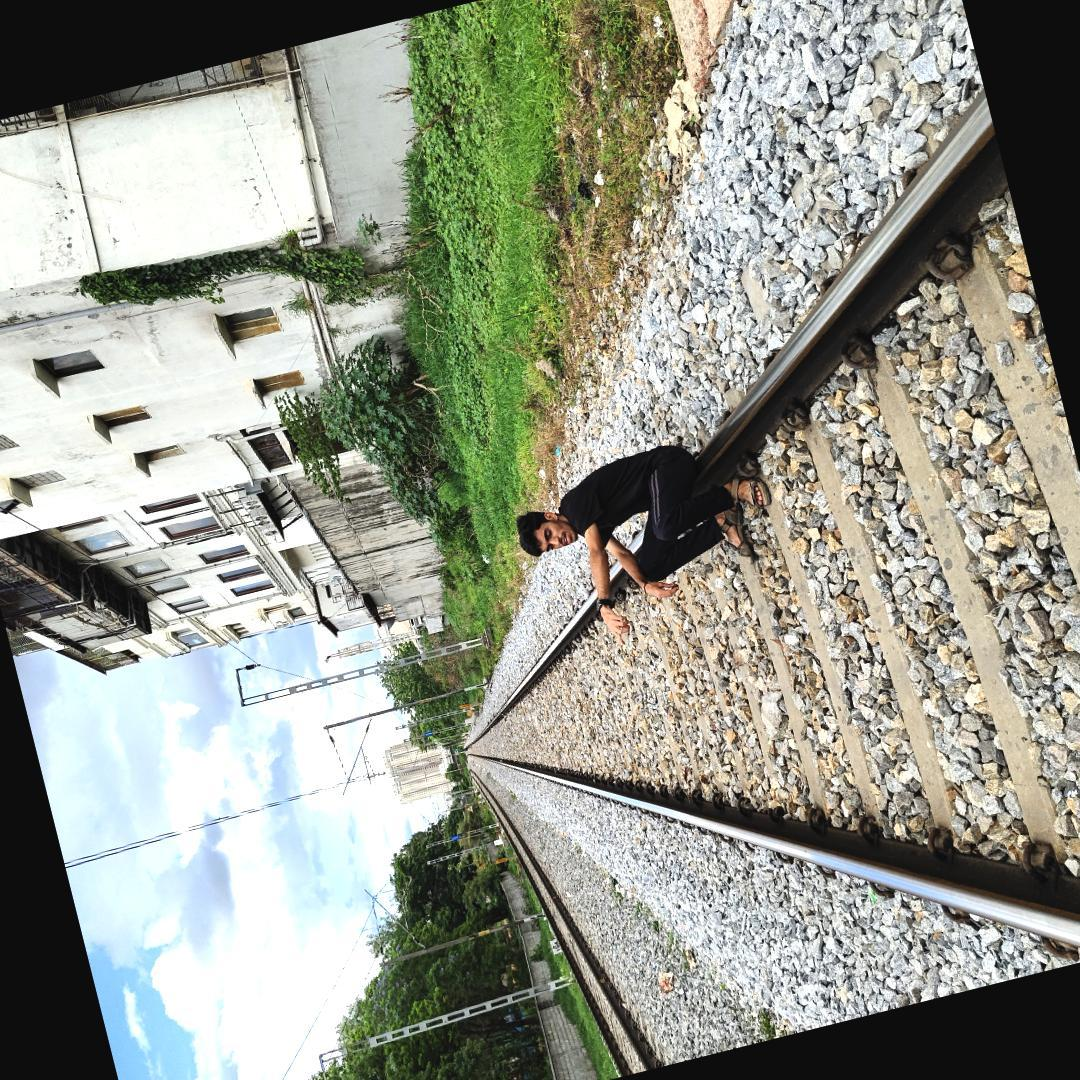sitting: (494, 427, 790, 645)
